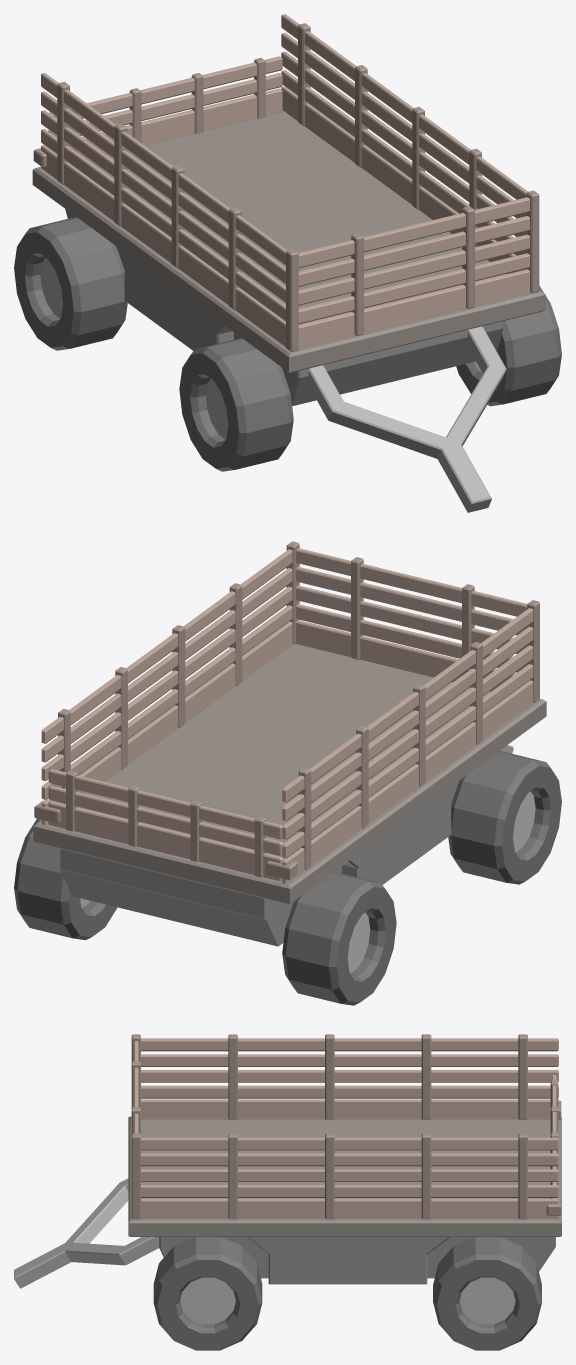
File: fp_cart.glb
3 renders of one model, top to bottom at view 1: azimuth 30°, elevation 25°; view 2: azimuth 150°, elevation 25°; view 3: azimuth 270°, elevation 25°, orthographic. The views are drawn at different scales.
Size of the model in its own units: 0.7538 by 0.5302 by 1.31.
